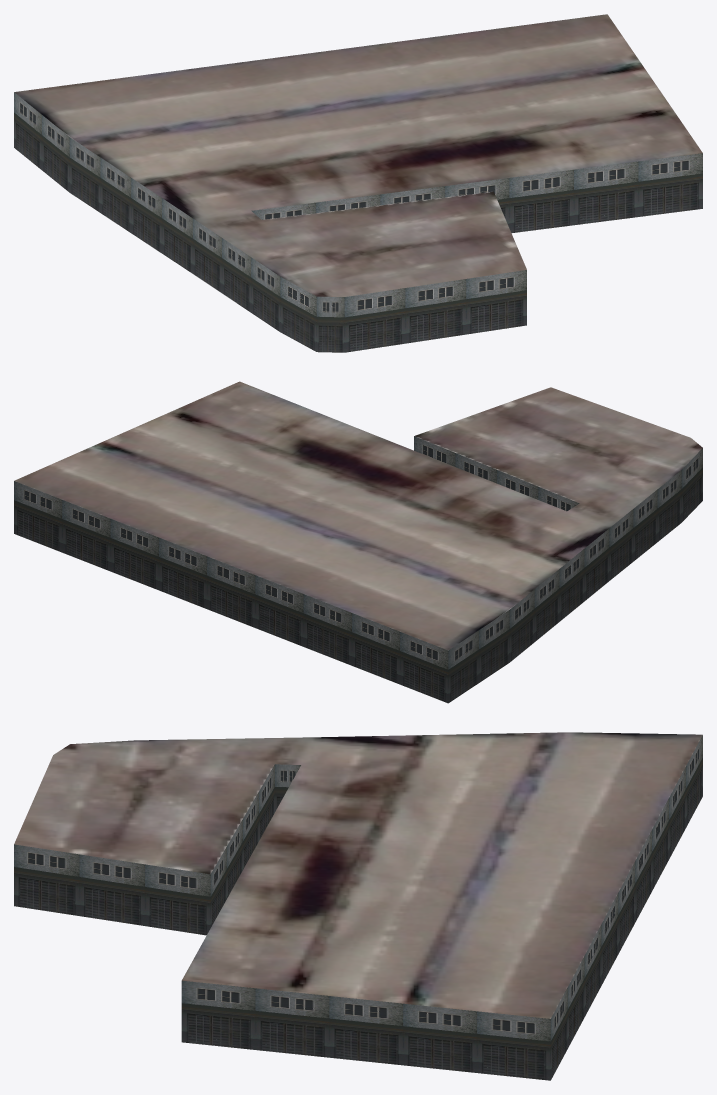
File: T_1T8FR4PJS8.dae
3 views of the same model, one above another, from view 1: azimuth 30°, elevation 25°; view 2: azimuth 150°, elevation 25°; view 3: azimuth 270°, elevation 25° (orthographic). The views are drawn at different scales.
Visible parts, largest first — view 1: SketchUp (×15); view 2: SketchUp (×11); view 3: SketchUp (×9).
Boxes of the visible parts, <box> form: SketchUp (×15): <box>14,14,702,352</box>; SketchUp (×11): <box>14,381,702,703</box>; SketchUp (×9): <box>14,732,702,1080</box>.
Bounding box in the file's own units: 51.67 × 52.48 × 5.19.
Materials: 3 (3 with a texture image).
